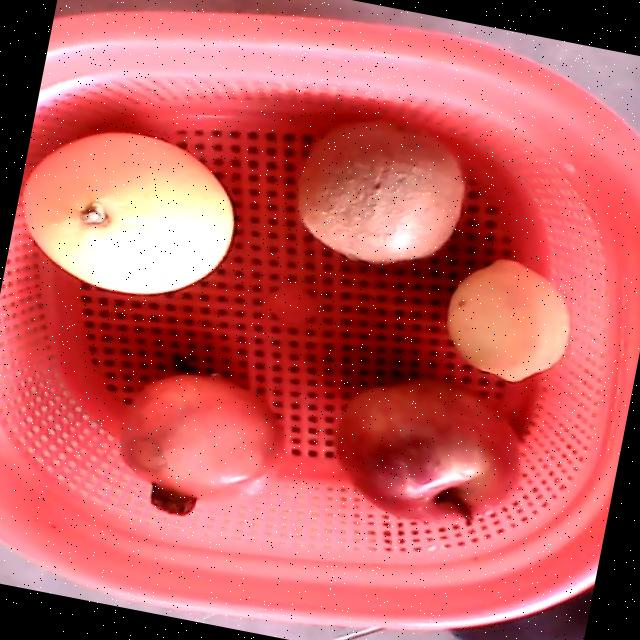apple: (334, 379, 519, 524)
kiwi: (295, 119, 464, 263)
lemon: (446, 259, 571, 381)
orange: (21, 131, 233, 295)
pomegranate: (116, 372, 288, 515)
